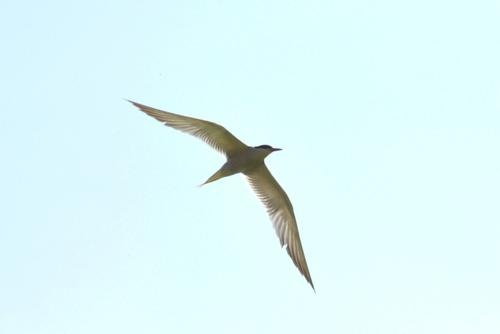bird: (127, 98, 317, 292)
